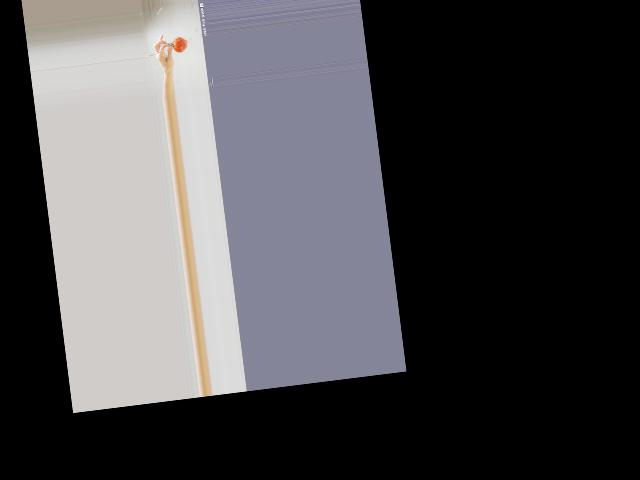tomato: (172, 37, 188, 54)
